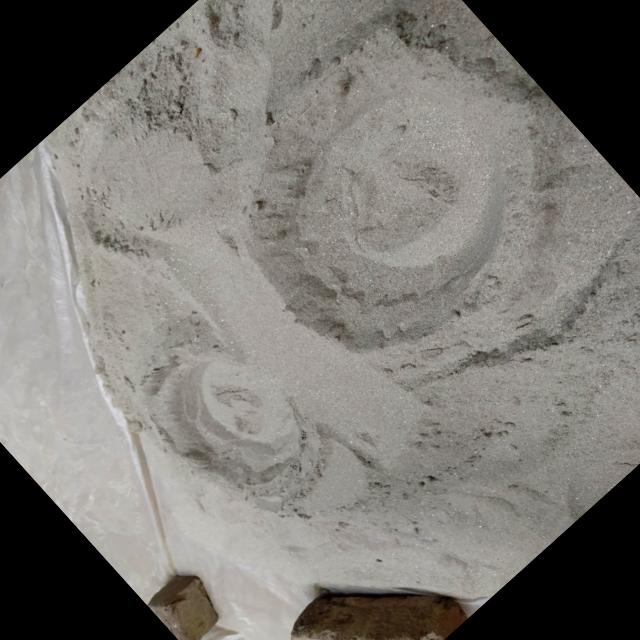C20: (264, 34, 508, 360), (157, 356, 301, 486)
